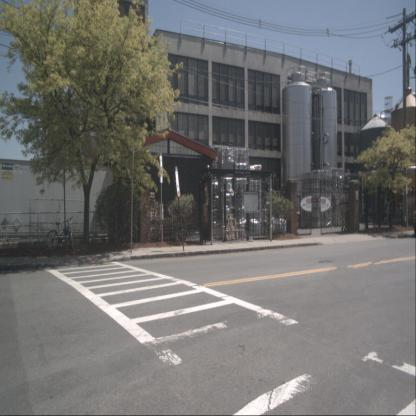vehicle-bicycle: (46, 215, 74, 252)
